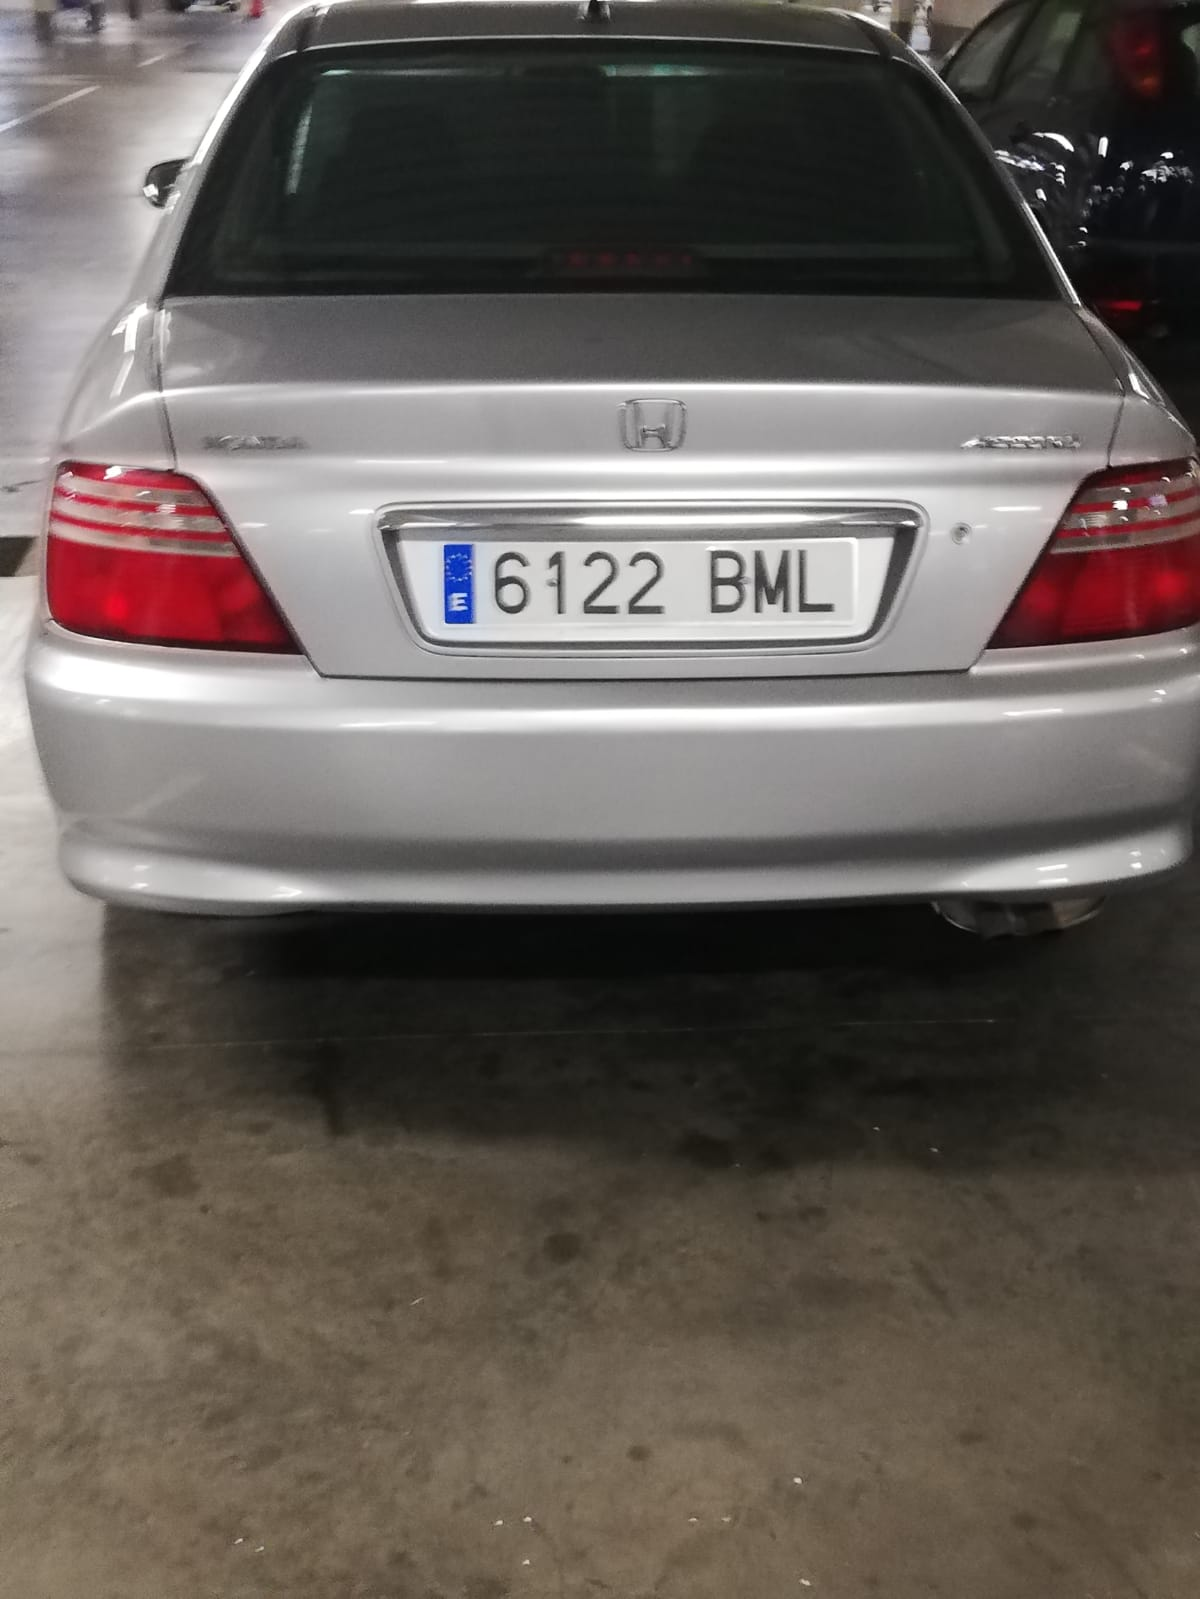Car: (23, 0, 1199, 926)
Plate: (439, 542, 855, 626)
